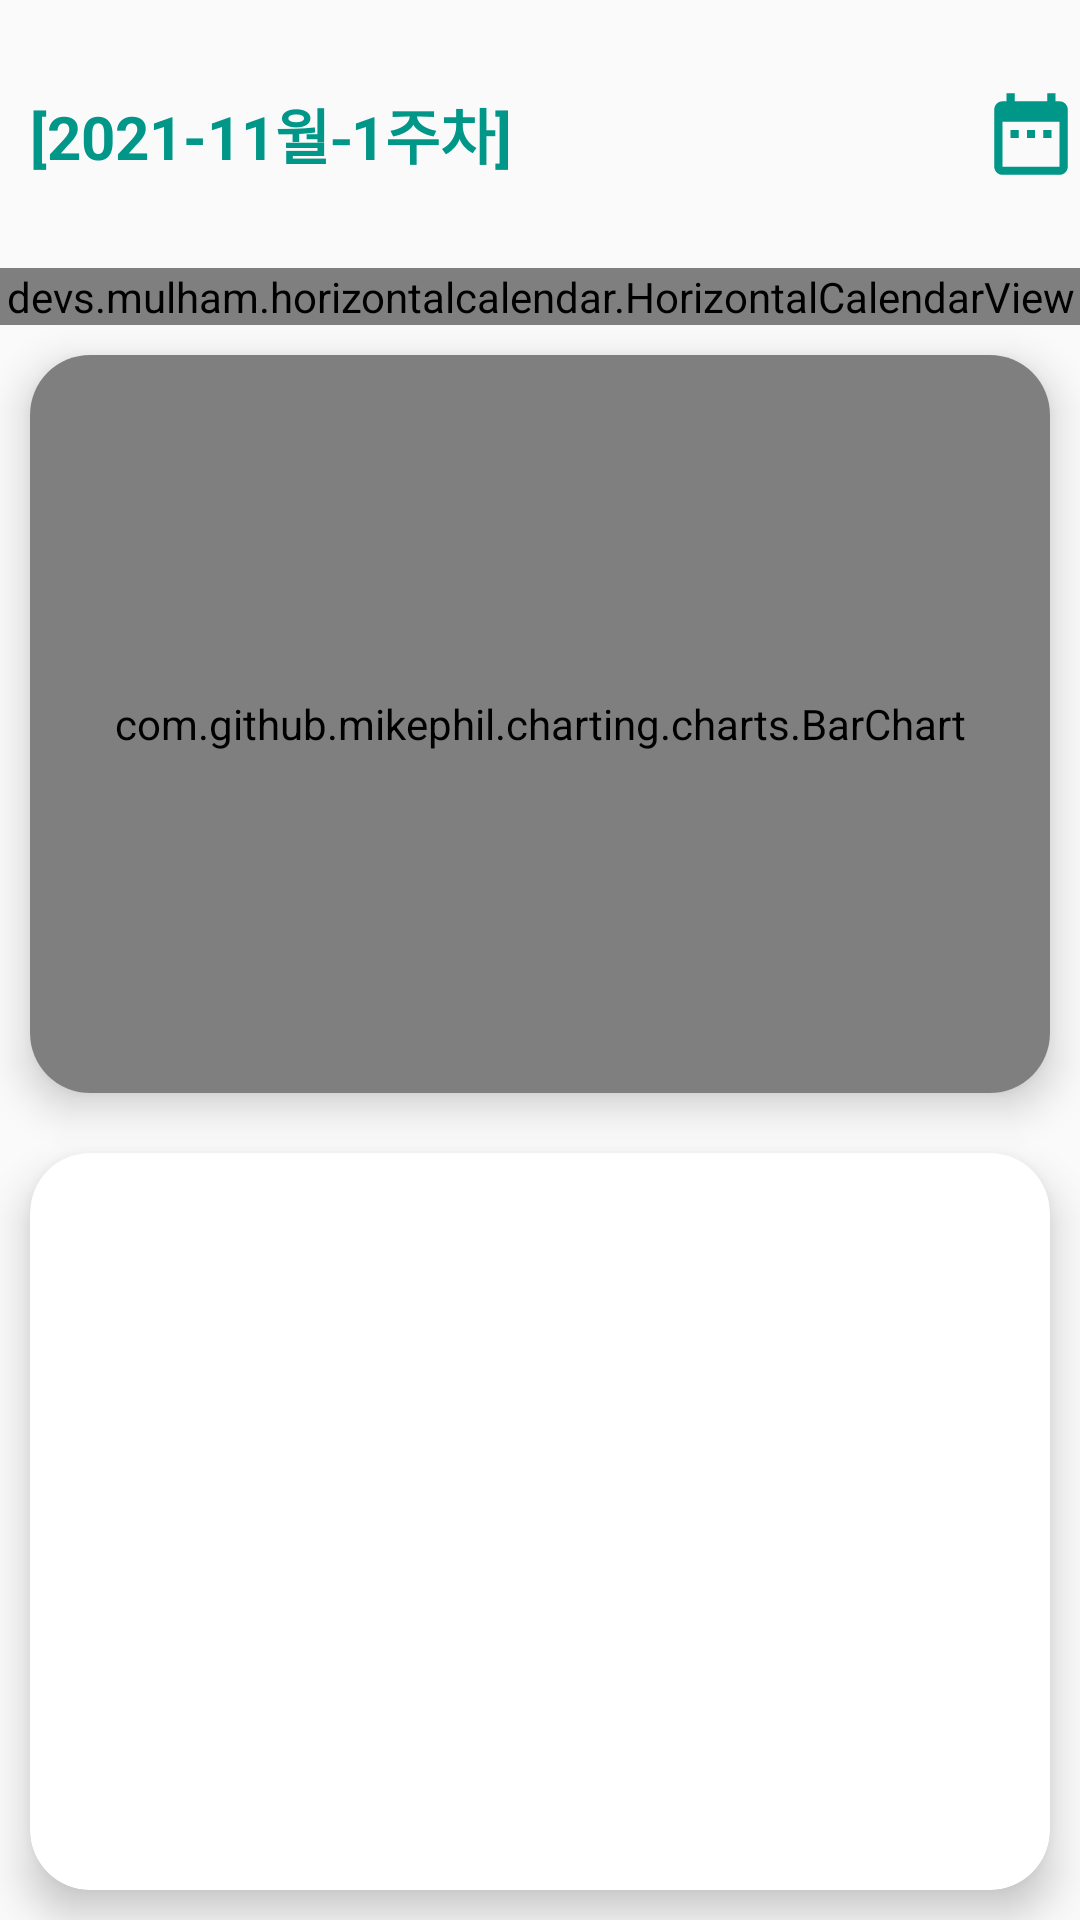

Icon click points for this 1080w x 1920h phone screenshot, format point (x, y):
calendar maincolor: point (1031, 134)
